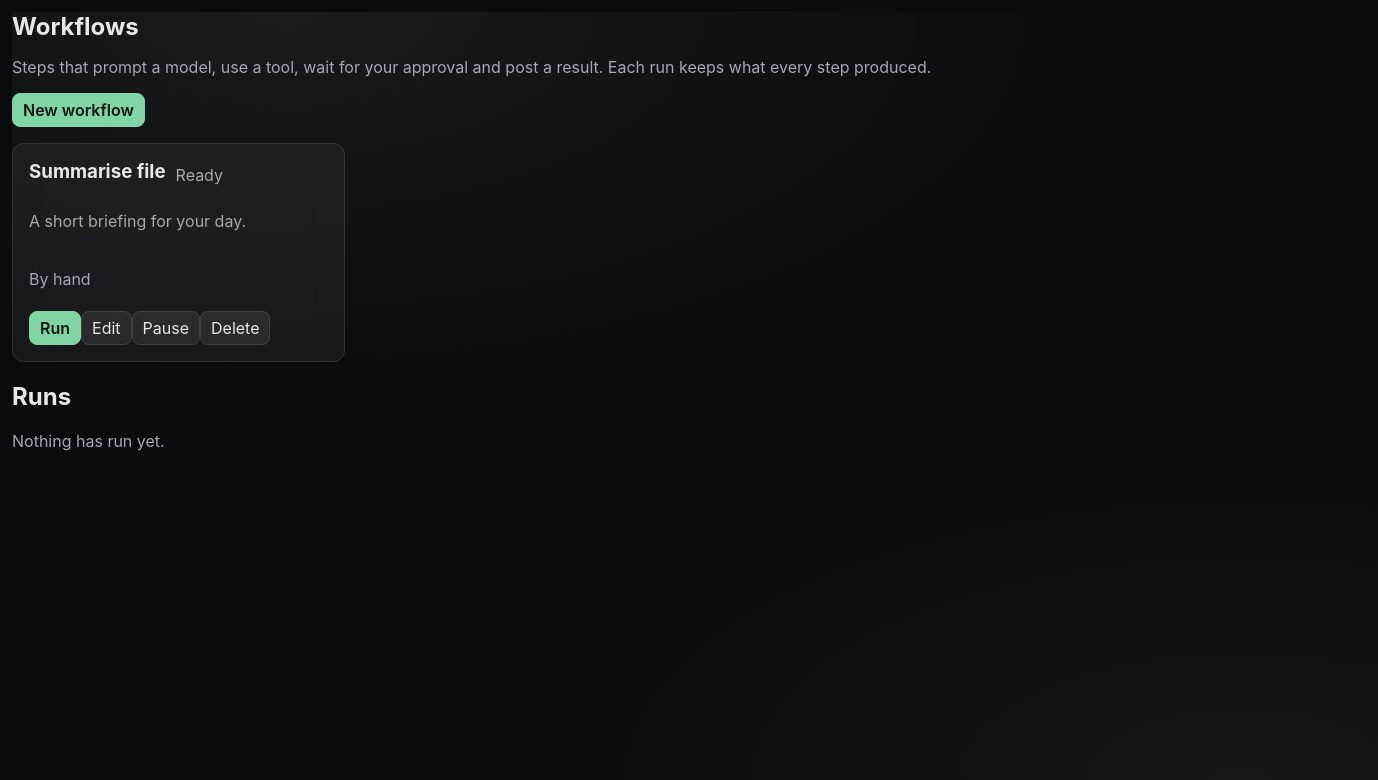
Workflows › asks for the parameters, offers a dry run, and starts the run
Click the button "Run" at (55, 328), box [29,311,81,345]
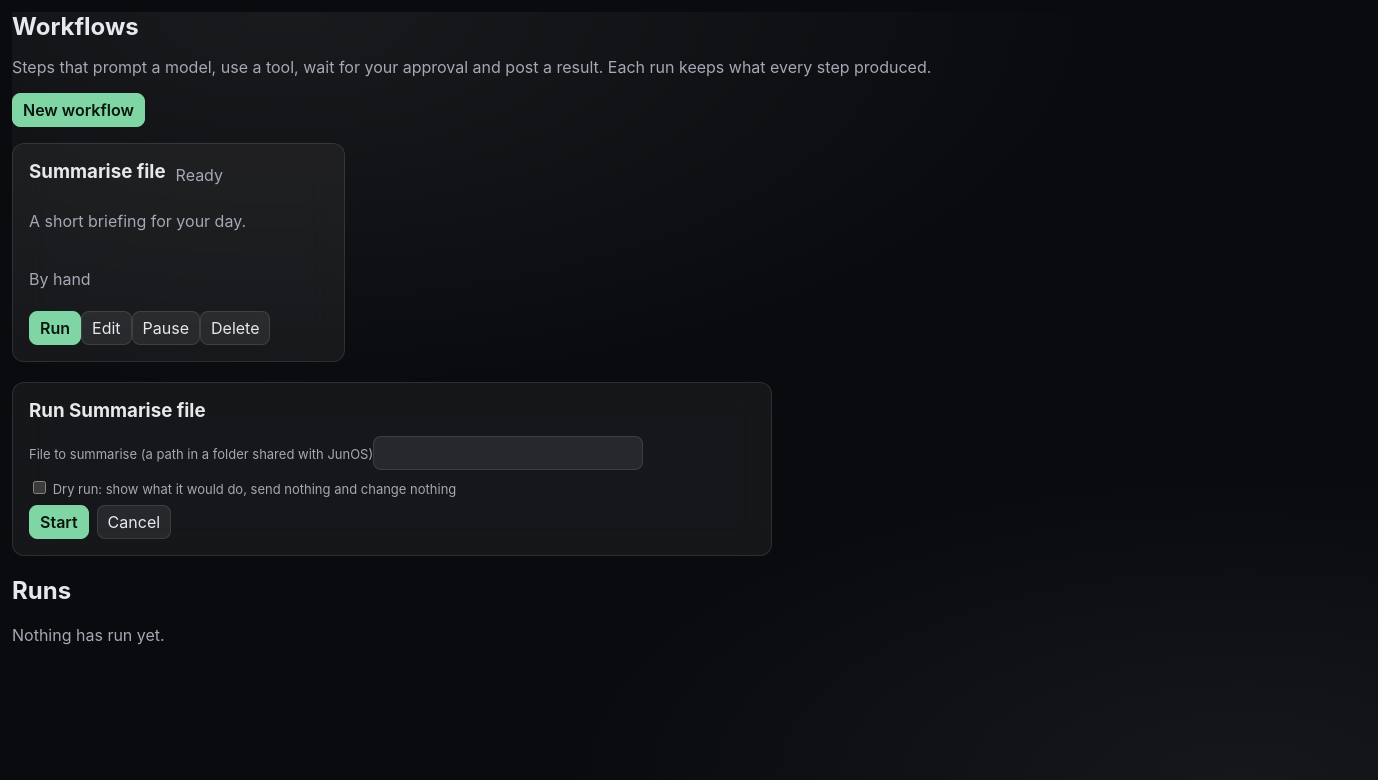
Type "notes.txt" into the field labelled "File to summarise (a path in a folder shared with JunOS)" at (508, 453), box [373,436,643,470]
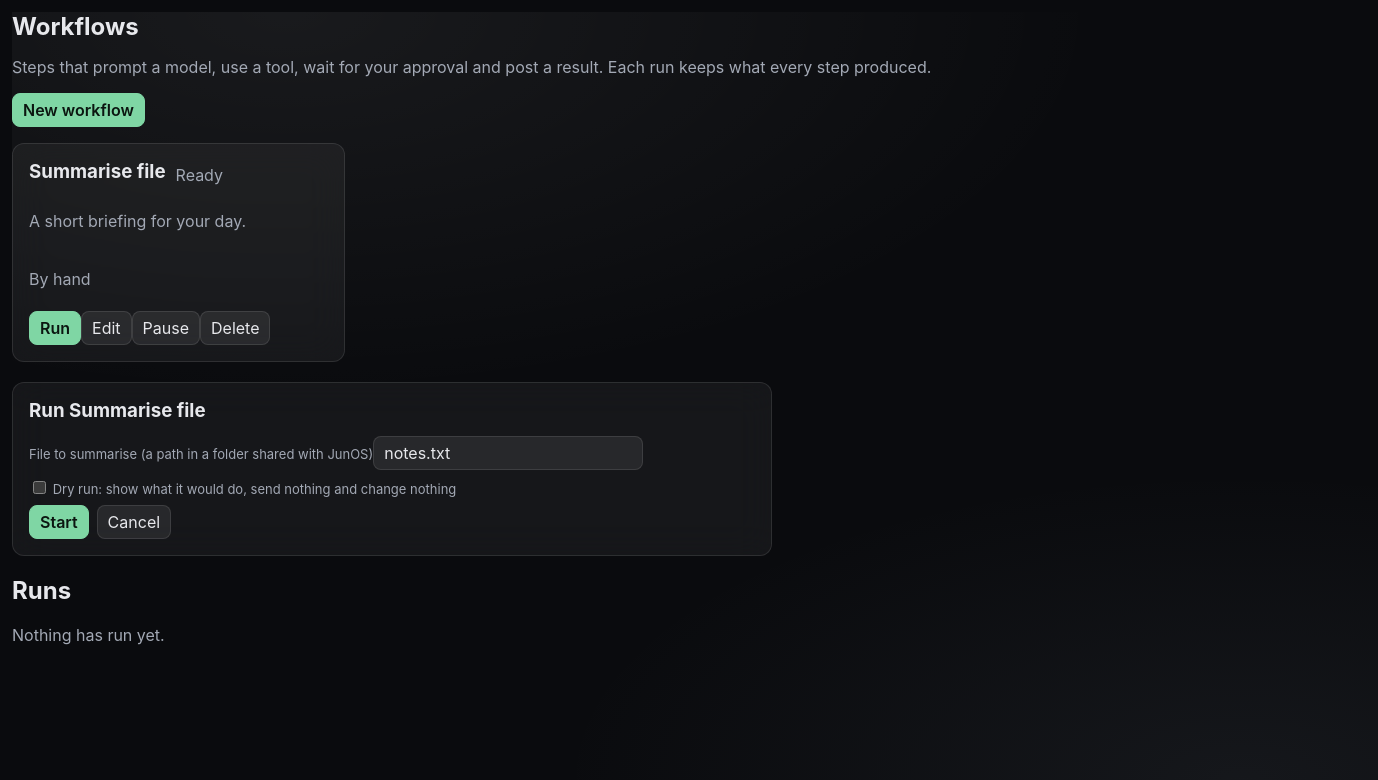
Click the checkbox labelled "Dry run" at (40, 488), box [33,481,46,494]
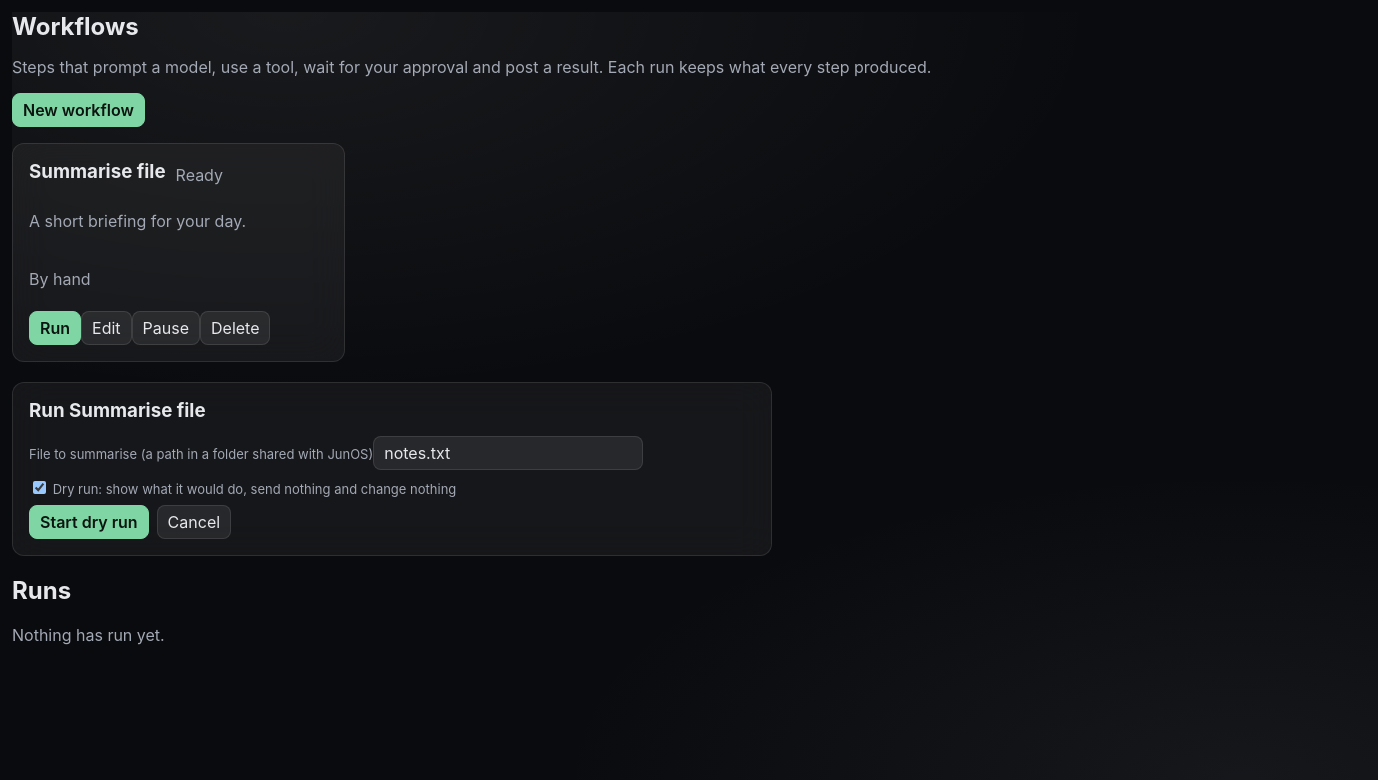
Click the button "Start dry run" at (89, 522), box [29,505,149,539]
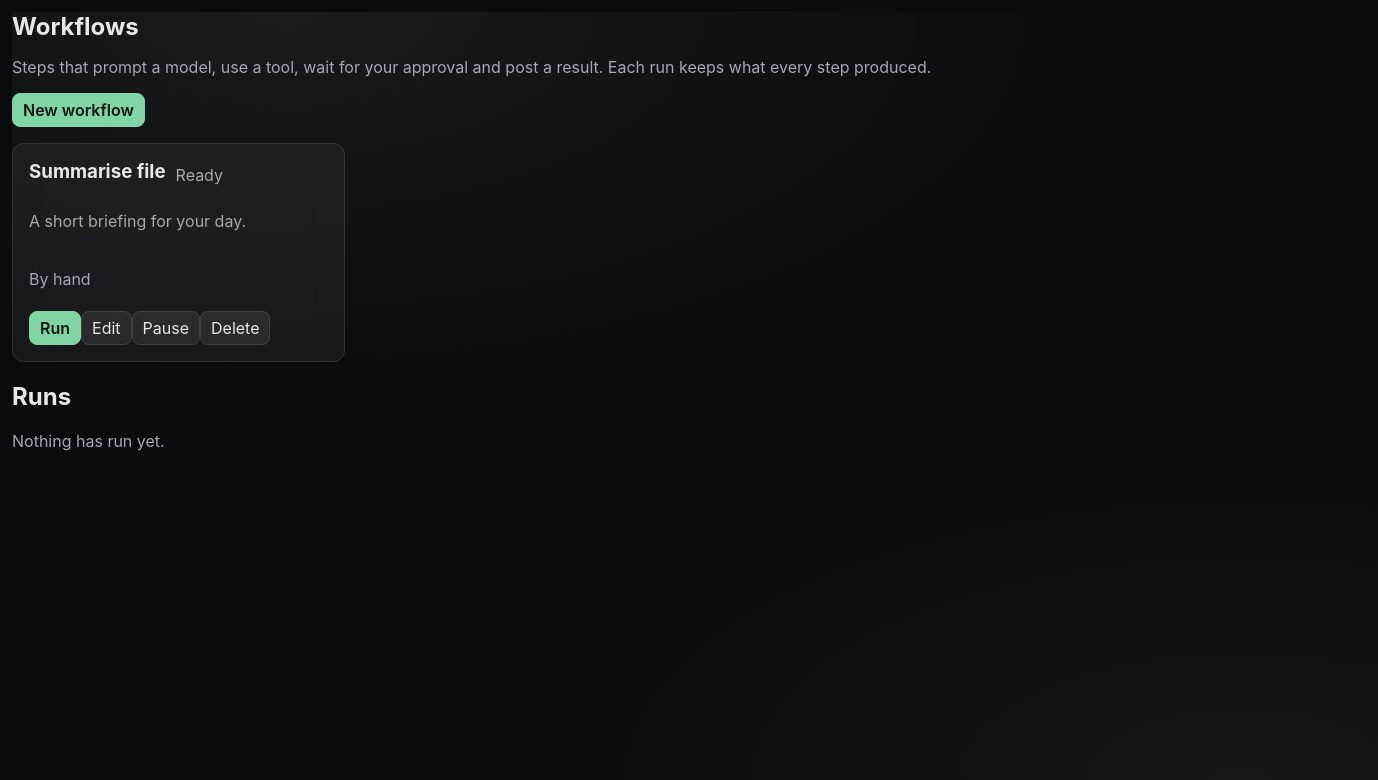
expect the heading "Run Summarise file" is gone: met
